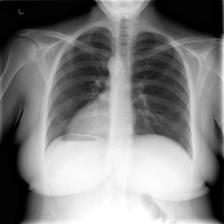normal: (40, 22, 200, 168)
